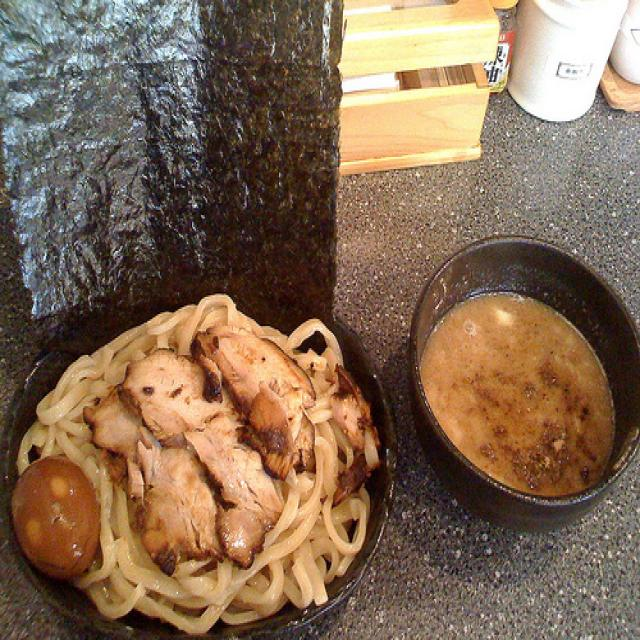面条主食: (12, 266, 616, 621)
